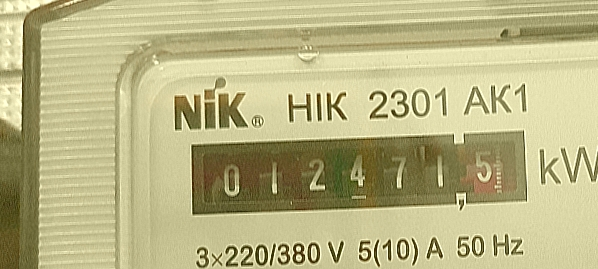0: (218, 161, 241, 197)
1: (266, 159, 279, 195), (432, 152, 443, 188)
2: (305, 156, 326, 192)
4: (346, 151, 366, 188)
5: (472, 146, 494, 184)
7: (386, 152, 407, 191)
screen: (179, 121, 538, 224)
